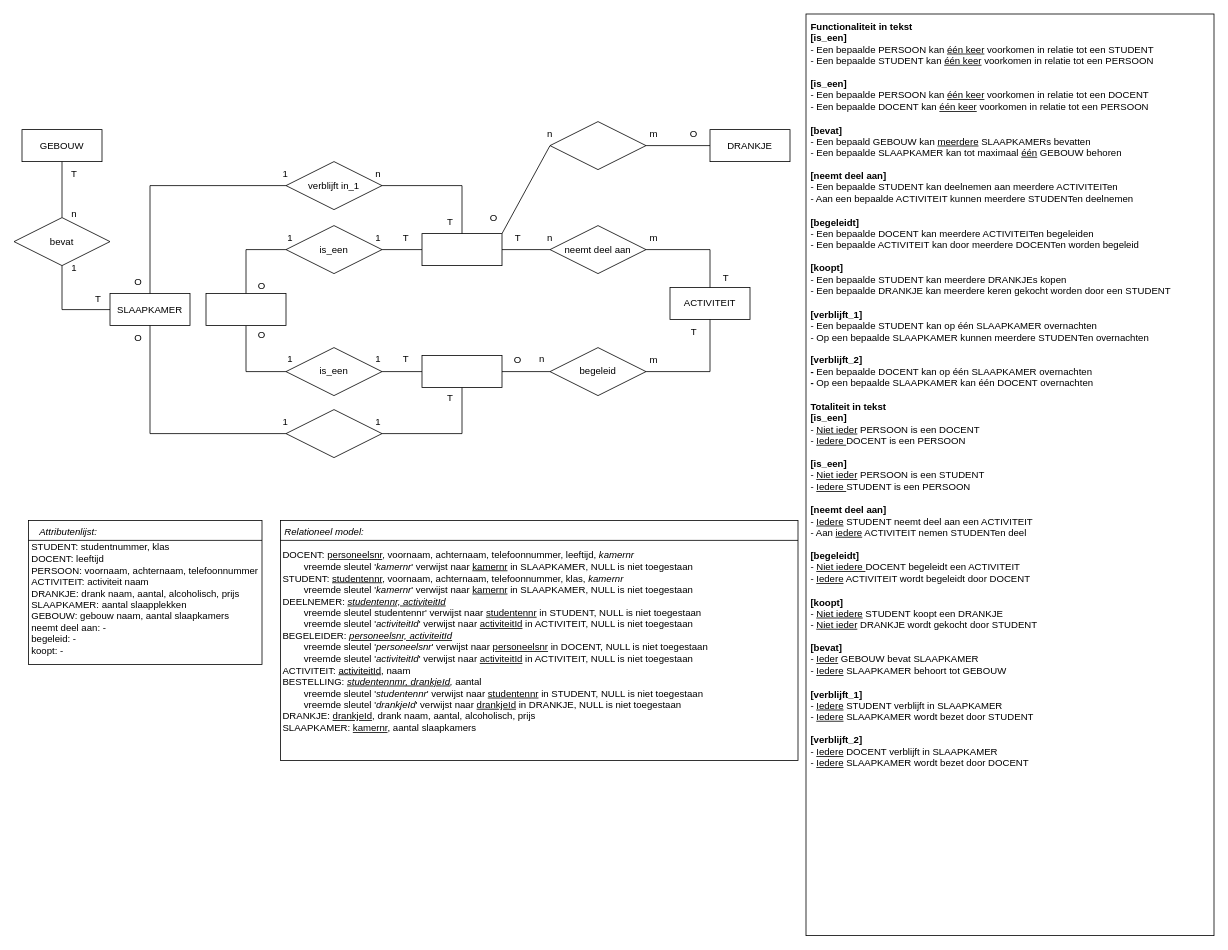
Some shapes in this 1228 by 950 pixel diagram are drawn without their labels. Here are the shapes that lost their labels. From the top down, the box of each, then its label:
(549, 121, 646, 170): koopt
(421, 233, 502, 266): STUDENT
(205, 293, 286, 326): PERSOON
(421, 355, 502, 388): DOCENT
(285, 409, 382, 458): verblijft in_2
